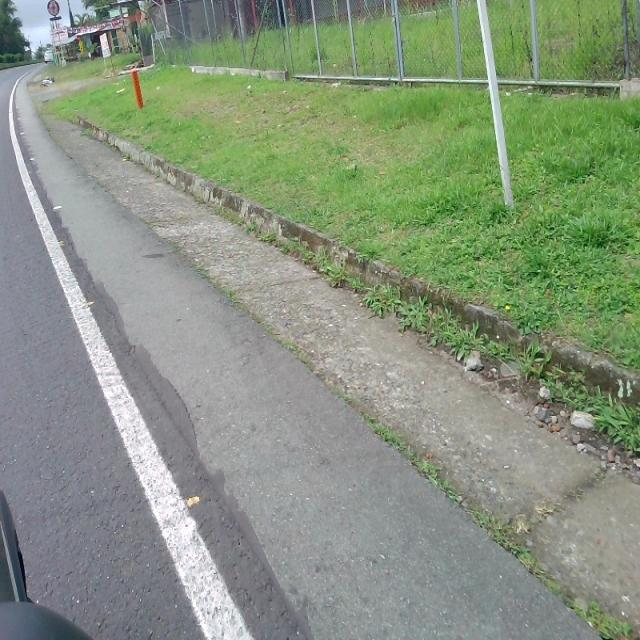DITCH: (9, 62, 638, 638)
